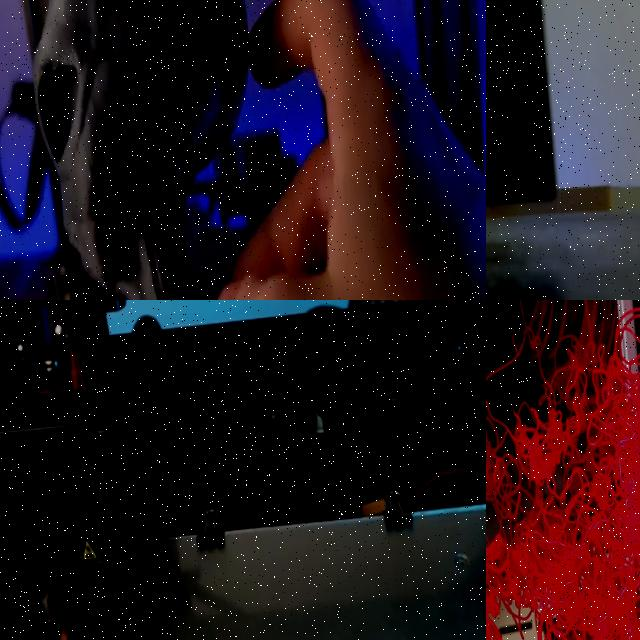spaghetti: (486, 300, 640, 640)
